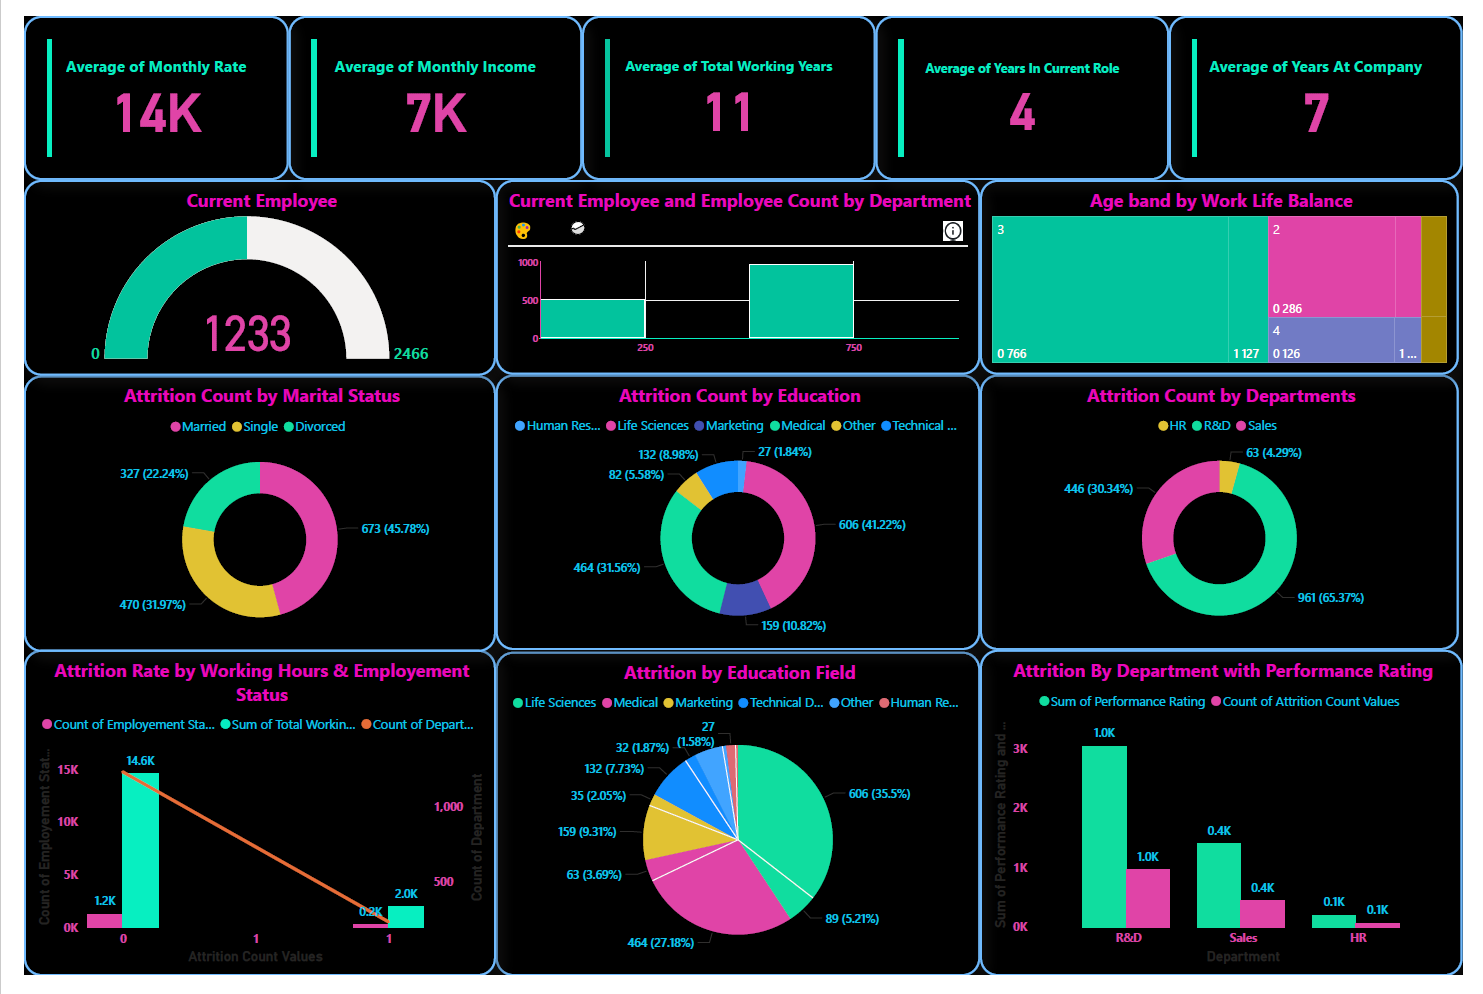

This screenshot's page, from the dashboard's own definition file:
{"tool":"powerbi","page":{"name":"Attrition Analysis By Marital status, and Education","canvas":[1500,1000],"ordinal":2},"visuals":[{"type":"pieChart","title":"Attrition by Education Field","fields":{"Category":["HR_Analytics.Education Field"],"Y":["Sum(HR_Analytics.Employee Count)","Sum(HR_Analytics.Attrition Count Values)"]},"box":[491.9,662.7,505,337.9],"z":0},{"type":"lineClusteredColumnComboChart","title":"Attrition Rate by Working Hours & Employement Status","fields":{"Category":["HR_Analytics.Attrition Count Values"],"Y":["CountNonNull(HR_Analytics.Employement Status)","Sum(HR_Analytics.Total Working Years)"],"Y2":["CountNonNull(HR_Analytics.Department)"]},"box":[0,660.8,491.9,339.8],"z":1000},{"type":"donutChart","title":"Attrition Count by Marital Status","fields":{"Category":["HR_Analytics.Marital Status"],"Y":["CountNonNull(HR_Analytics.Attrition Count)"]},"box":[0,375.5,491.9,287.2],"z":2000},{"type":"donutChart","title":"Attrition Count by Education","fields":{"Series":["HR_Analytics.Education Field"],"Y":["CountNonNull(HR_Analytics.Attrition Count)"]},"box":[491.9,373.6,505,287.2],"z":3000},{"type":"donutChart","title":"Attrition Count by Departments","fields":{"Series":["HR_Analytics.Department"],"Y":["CountNonNull(HR_Analytics.Attrition Count)"]},"box":[996.9,373.6,499.4,287.2],"z":4000},{"type":"lineClusteredColumnComboChart","title":"Attrition By Department with Performance Rating","fields":{"Category":["HR_Analytics.Department"],"Y":["Sum(HR_Analytics.Performance Rating)","CountNonNull(HR_Analytics.Attrition Count Values)"]},"box":[996.9,660.8,503.1,339.8],"z":5000},{"type":"cardVisual","title":"Average of Monthly Rate","fields":{"Data":["Avg(HR_Analytics.Monthly Rate)"]},"box":[0,0,276,170.8],"z":6000},{"type":"cardVisual","fields":{"Data":["Avg(HR_Analytics.Monthly Income)"]},"box":[276,0,306,170.8],"z":7000},{"type":"cardVisual","fields":{"Data":["Avg(HR_Analytics.Total Working Years)"]},"box":[582,0,306,170.8],"z":8000},{"type":"cardVisual","fields":{"Data":["Avg(HR_Analytics.Years In Current Role)"]},"box":[888,0,306,170.8],"z":9000},{"type":"cardVisual","fields":{"Data":["Avg(HR_Analytics.Years At Company)"]},"box":[1194,0,306,170.8],"z":10000},{"type":"gauge","title":"Current Employee","fields":{"Y":["Sum(HR_Analytics.CF_current Employee)"]},"box":[0,170.8,491.9,204.6],"z":11000},{"type":"histogramF963F133BA02A0B35D286F09F80E9C78","title":"Current Employee and Employee Count by Department","fields":{"col_2":["Sum(HR_Analytics.CF_current Employee)"],"col_4":["HR_Analytics.Department"],"col_3":["Sum(HR_Analytics.Employee Count)"]},"box":[491.9,170.8,505,202.8],"z":12000},{"type":"treemap","title":"Age band by Work Life Balance","fields":{"Details":["HR_Analytics.Attrition Count Values"],"Group":["HR_Analytics.Work Life Balance"],"Values":["CountNonNull(HR_Analytics.CF_age band)"]},"box":[996.9,170.8,499.4,202.8],"z":13000}]}

Visuals, with their boxes in screenshot pixels (x1, y1, x2, y2), scaled from the page's 1500x1000 canvas onto the 1483x994 screenshot:
"Attrition by Education Field" pieChart: {"x1": 486, "y1": 659, "x2": 986, "y2": 993}
"Attrition Rate by Working Hours & Employement Status" lineClusteredColumnComboChart: {"x1": 0, "y1": 657, "x2": 486, "y2": 993}
"Attrition Count by Marital Status" donutChart: {"x1": 0, "y1": 373, "x2": 486, "y2": 659}
"Attrition Count by Education" donutChart: {"x1": 486, "y1": 371, "x2": 986, "y2": 657}
"Attrition Count by Departments" donutChart: {"x1": 986, "y1": 371, "x2": 1479, "y2": 657}
"Attrition By Department with Performance Rating" lineClusteredColumnComboChart: {"x1": 986, "y1": 657, "x2": 1482, "y2": 993}
"Average of Monthly Rate" cardVisual: {"x1": 0, "y1": 0, "x2": 273, "y2": 170}
cardVisual - Avg(HR_Analytics.Monthly Income): {"x1": 273, "y1": 0, "x2": 575, "y2": 170}
cardVisual - Avg(HR_Analytics.Total Working Years): {"x1": 575, "y1": 0, "x2": 878, "y2": 170}
cardVisual - Avg(HR_Analytics.Years In Current Role): {"x1": 878, "y1": 0, "x2": 1180, "y2": 170}
cardVisual - Avg(HR_Analytics.Years At Company): {"x1": 1180, "y1": 0, "x2": 1482, "y2": 170}
"Current Employee" gauge: {"x1": 0, "y1": 170, "x2": 486, "y2": 373}
"Current Employee and Employee Count by Department" histogramF963F133BA02A0B35D286F09F80E9C78: {"x1": 486, "y1": 170, "x2": 986, "y2": 371}
"Age band by Work Life Balance" treemap: {"x1": 986, "y1": 170, "x2": 1479, "y2": 371}
